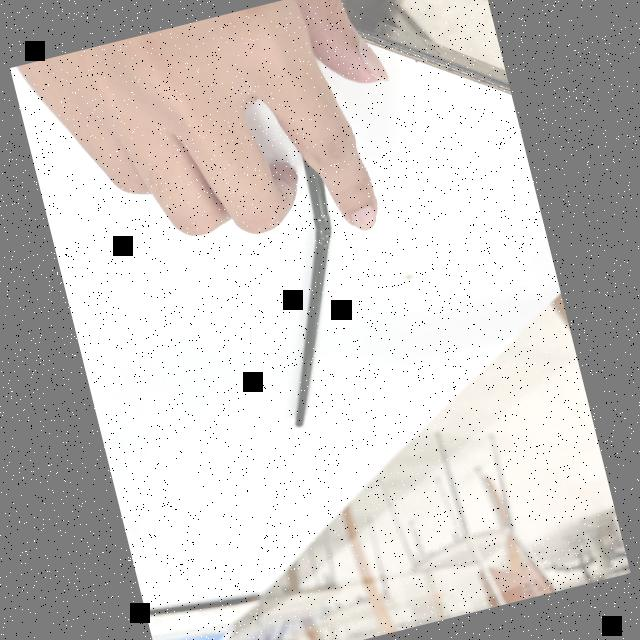straw: (228, 147, 386, 438)
